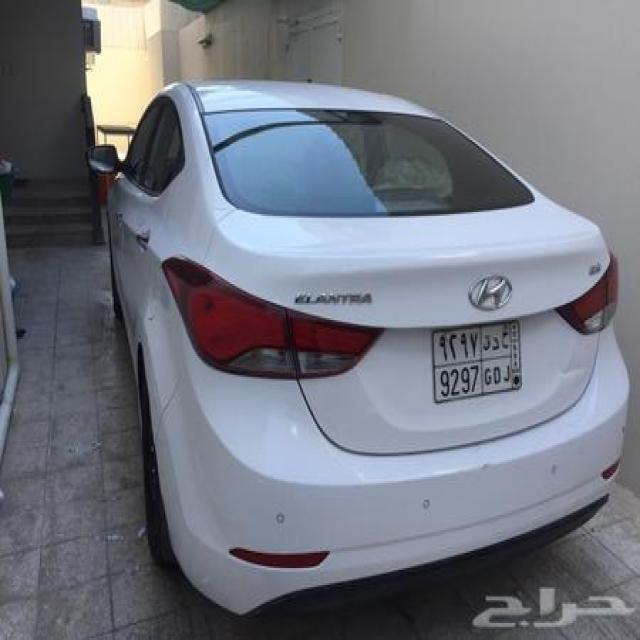license_plate: (429, 316, 525, 405)
